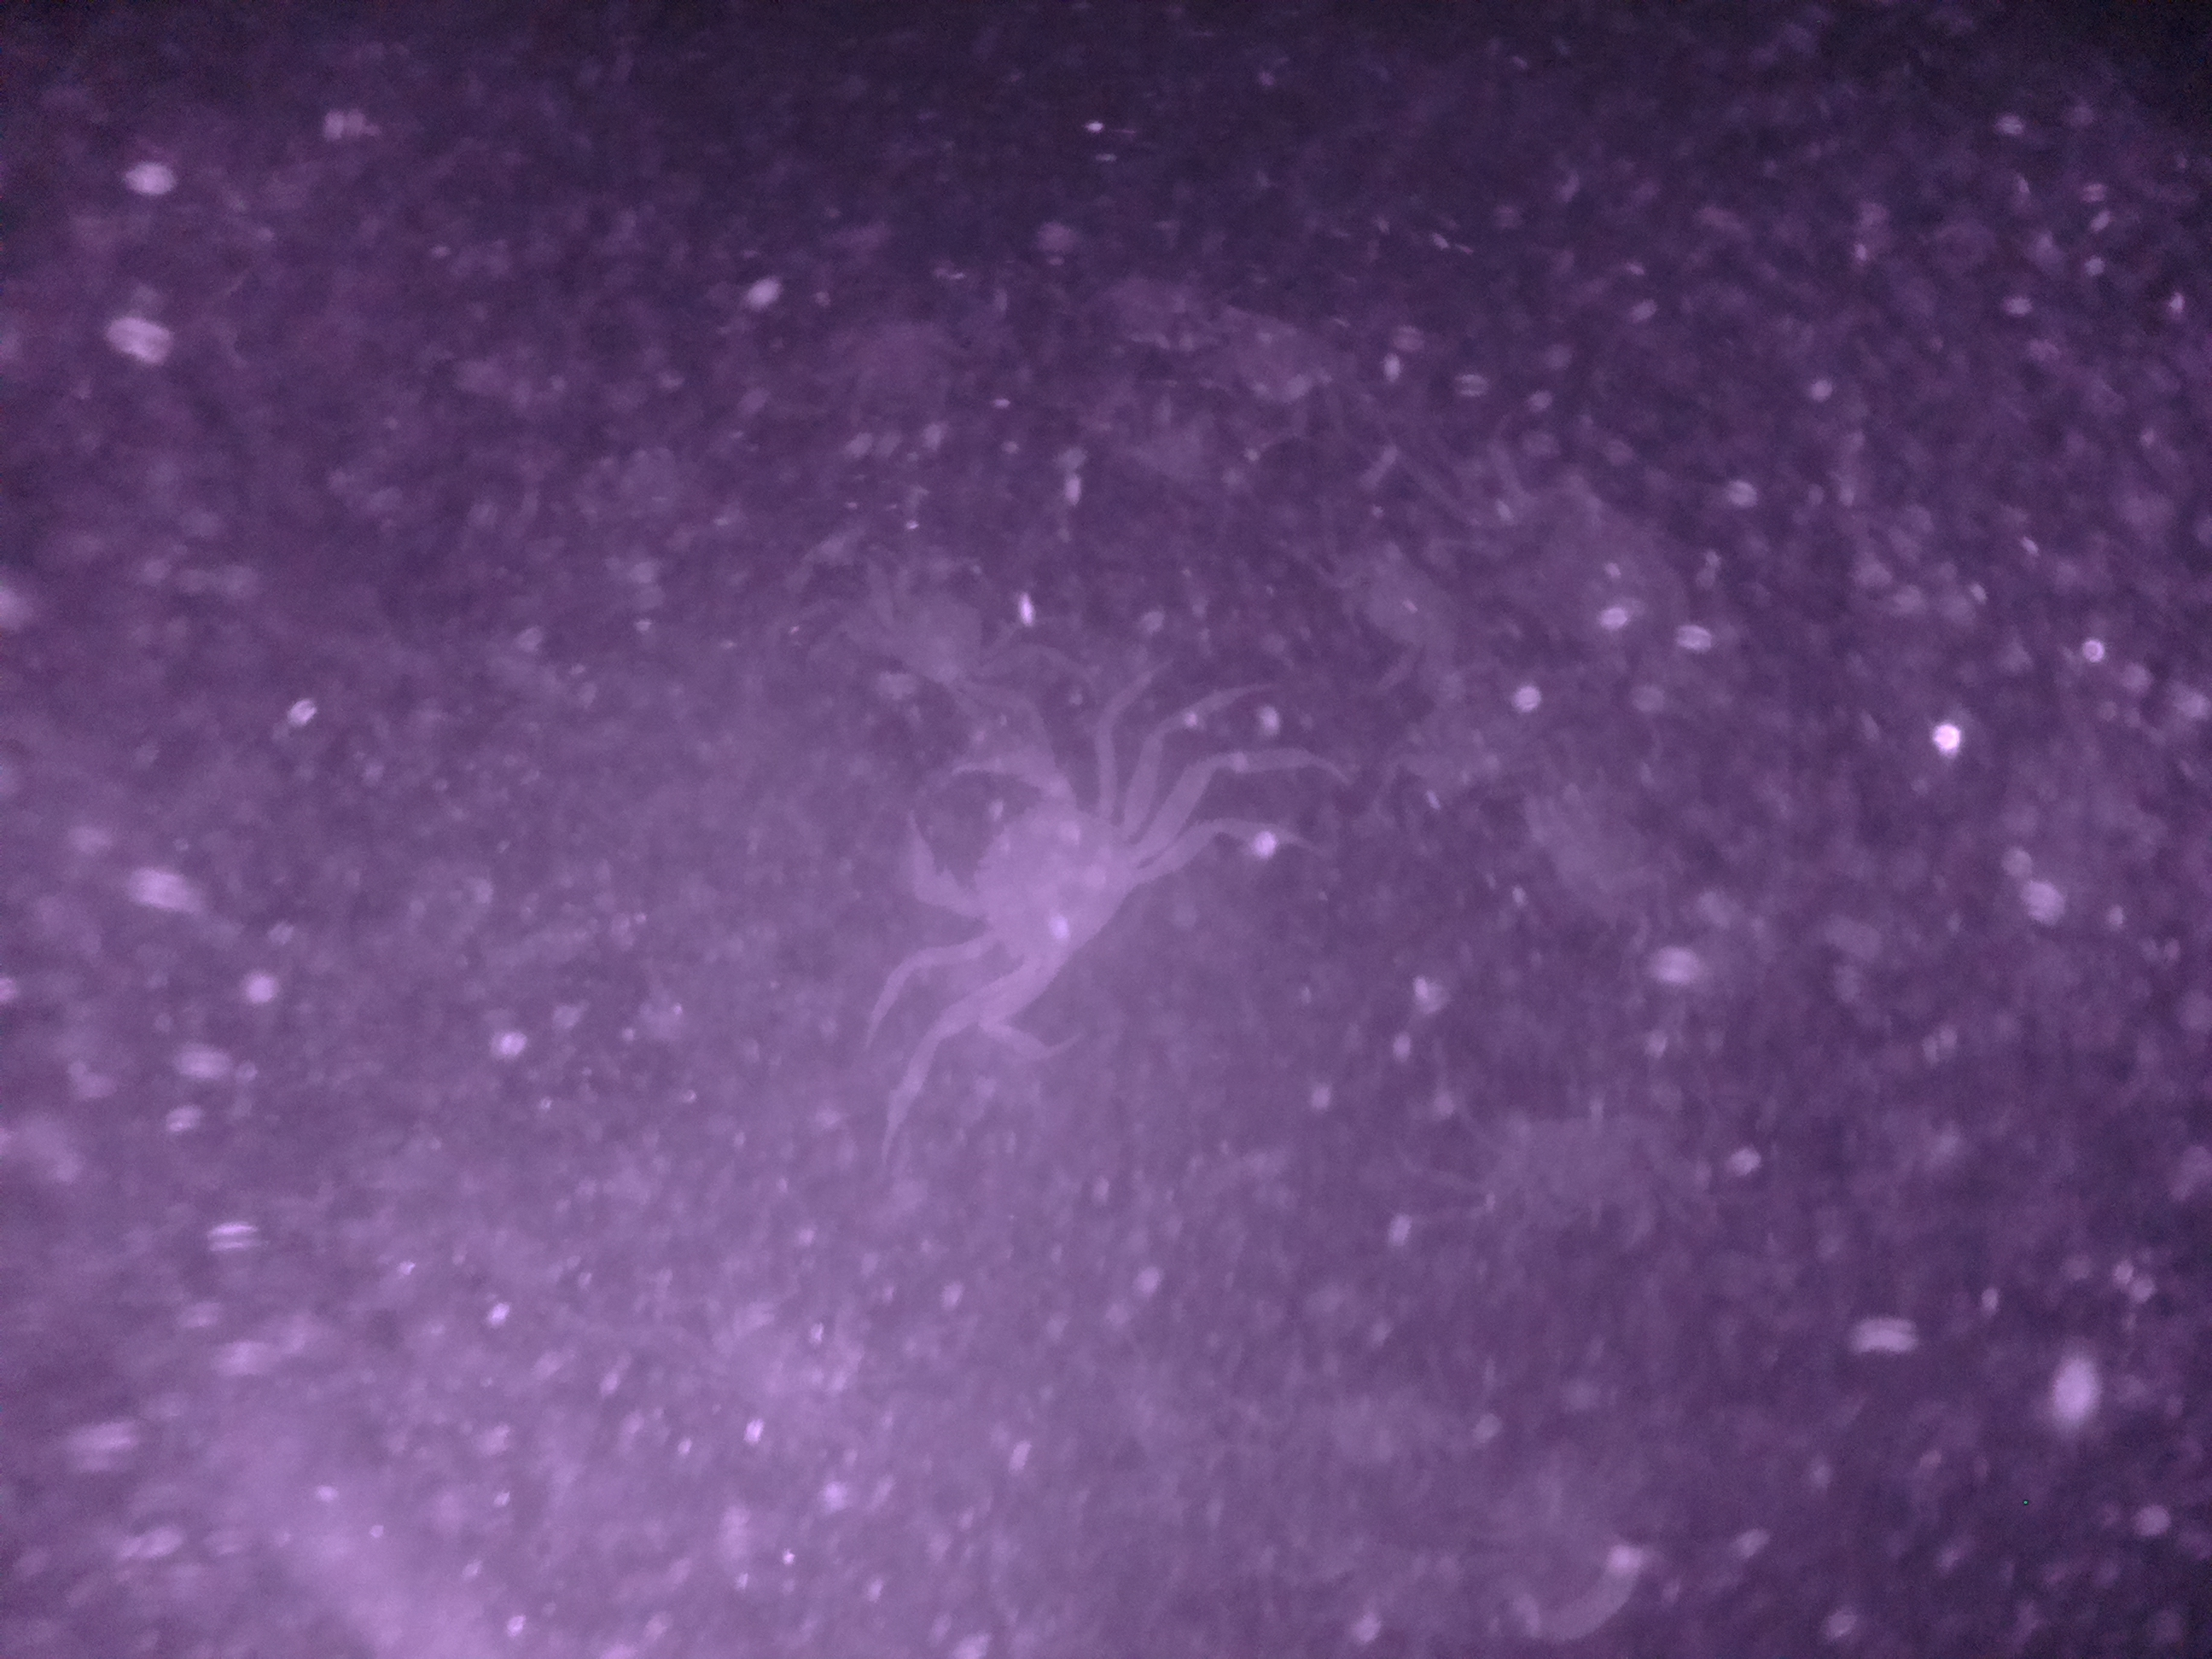Crab: (895, 727, 1167, 1044), (840, 526, 1043, 728)
